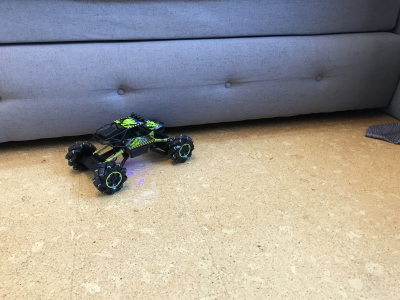remote control car: (62, 108, 196, 197)
